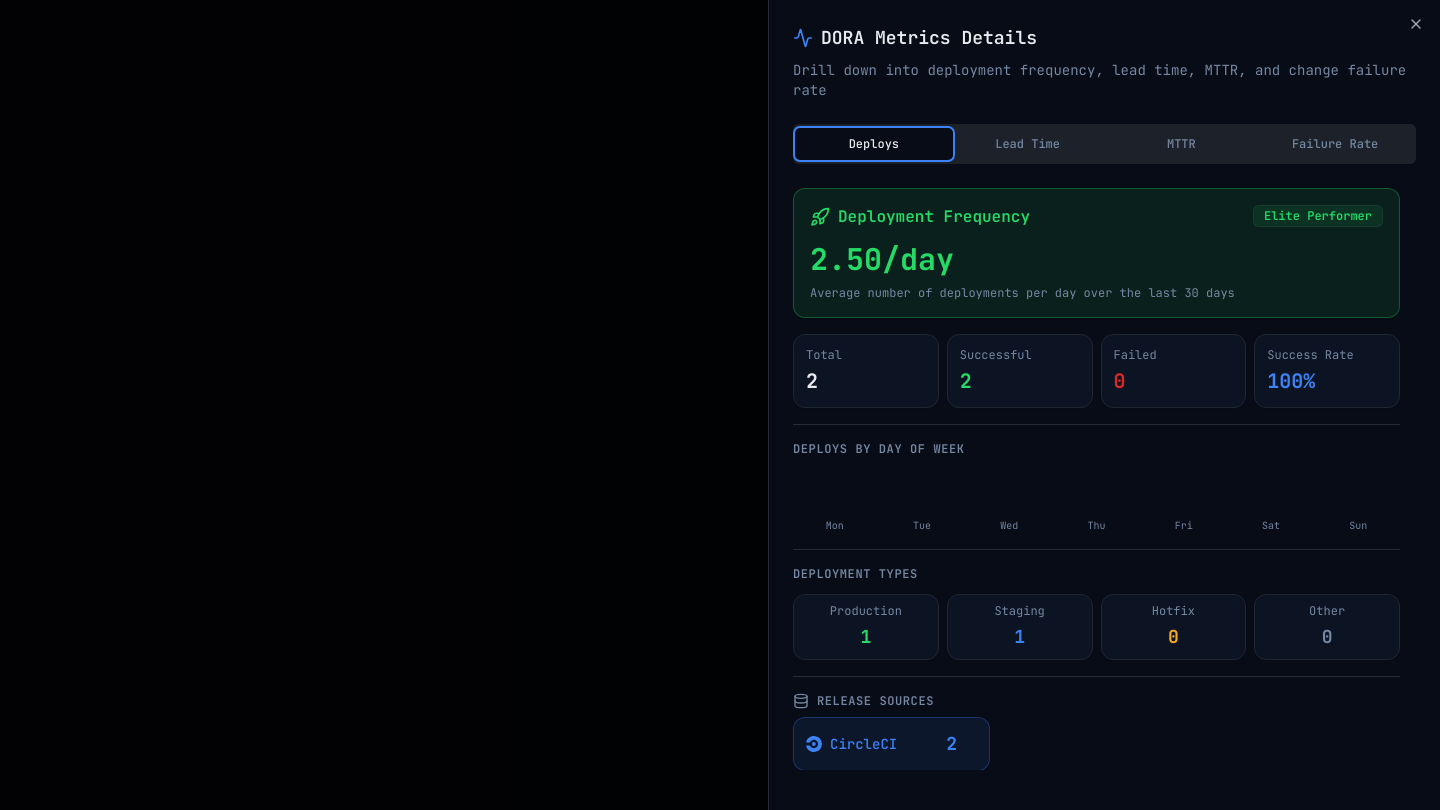
Test case: DeploymentFrequencyDetail - Filtering › Deployment type filtering › should filter by staging type when clicking Staging card
This screenshot has width=1440, height=810.
Click the button "Staging 1".
click(1020, 627)  # box [947,594,1093,660]
(page scrolled)
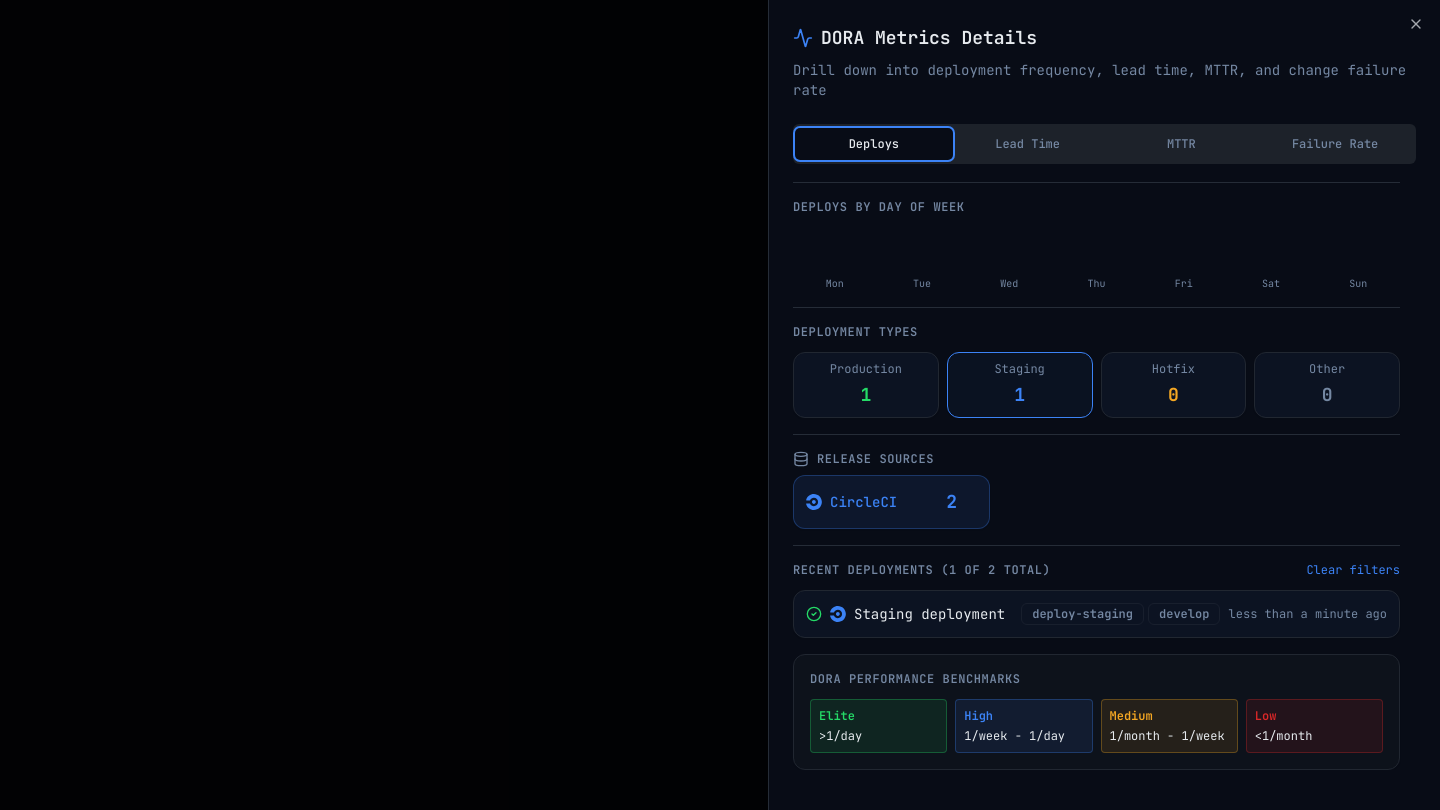
Now the text "Staging deployment" is shown, box [854,604,1005,624]
